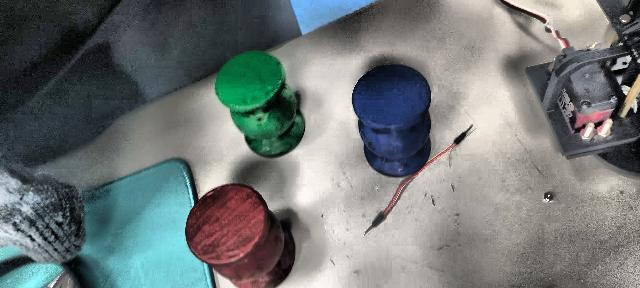blue: (352, 64, 432, 176)
green: (213, 47, 308, 161)
red: (186, 185, 301, 288)
